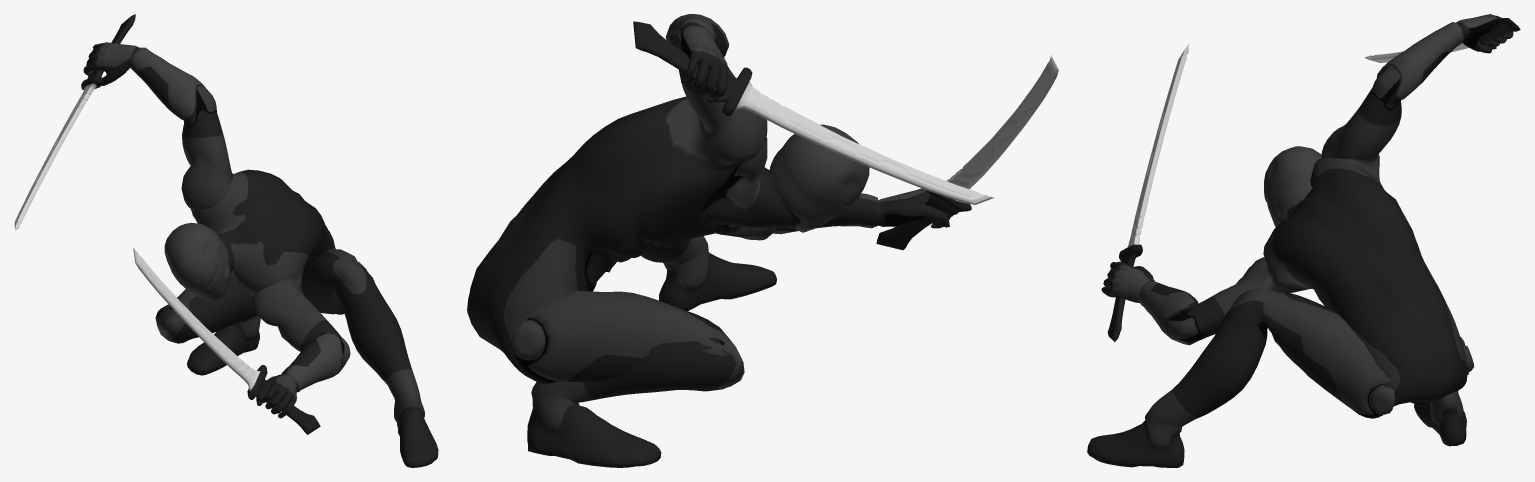
3 views of the same model, side by side, from view 1: azimuth 30°, elevation 25°; view 2: azimuth 150°, elevation 25°; view 3: azimuth 270°, elevation 25° (orthographic). The views are drawn at different scales.
Parts seen in each view (by area): view 1: Cyborg_Ninja_Killer, Sword_l, Sword_l001; view 2: Cyborg_Ninja_Killer, Sword_l001, Sword_l; view 3: Cyborg_Ninja_Killer, Sword_l, Sword_l001.
Part boxes in pixels (bbox=[...]): Cyborg_Ninja_Killer: bbox=[83, 42, 438, 467]; Sword_l: bbox=[133, 248, 320, 434]; Sword_l001: bbox=[14, 14, 135, 230]; Cyborg_Ninja_Killer: bbox=[467, 14, 953, 467]; Sword_l001: bbox=[633, 21, 993, 204]; Sword_l: bbox=[876, 55, 1058, 250]; Cyborg_Ninja_Killer: bbox=[1087, 14, 1513, 467]; Sword_l: bbox=[1107, 44, 1188, 341]; Sword_l001: bbox=[1364, 18, 1520, 62].
Size of the model in its own units: 125 by 117 by 122.
Materials: 2 (2 with a texture image).
